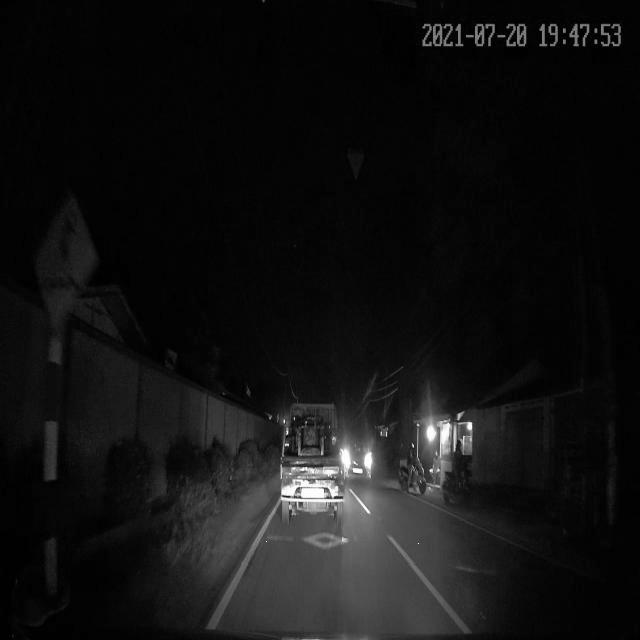diamond: (227, 516, 426, 564)
